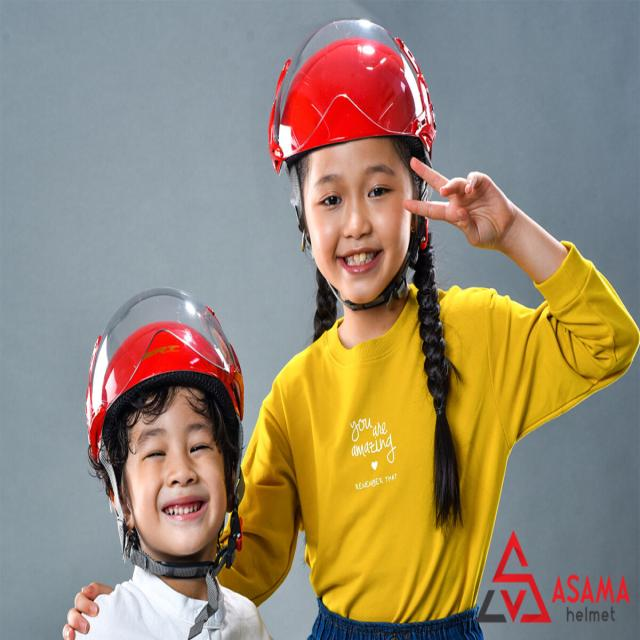Helmet: (265, 16, 468, 316), (79, 270, 238, 570)
